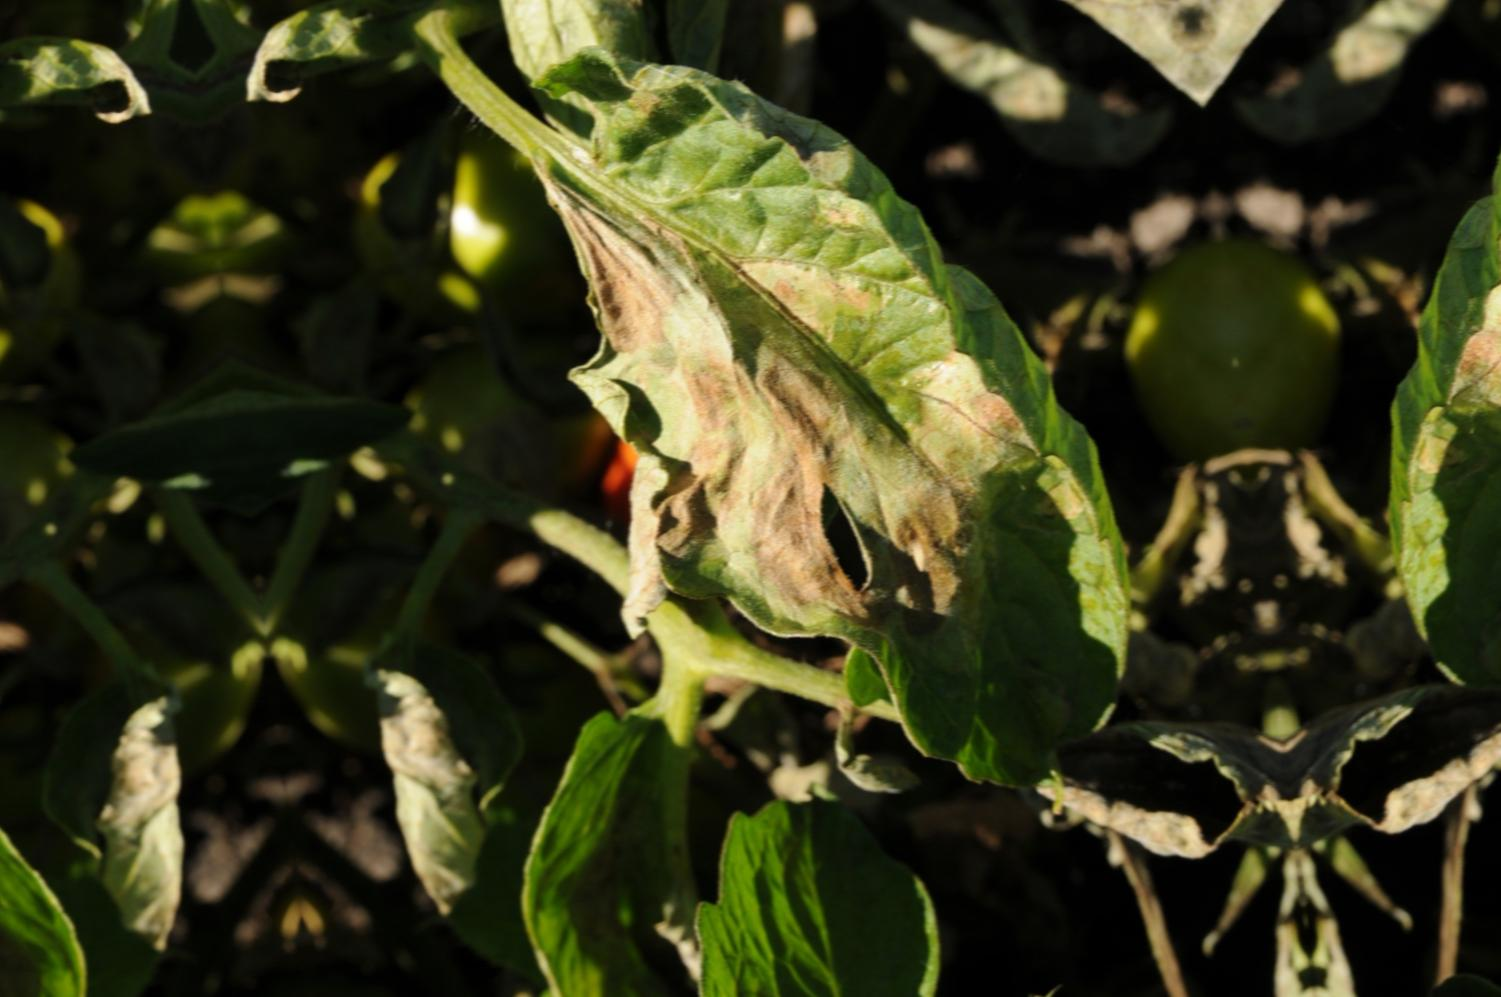Tomato leaf late blight: (521, 24, 1194, 817)
